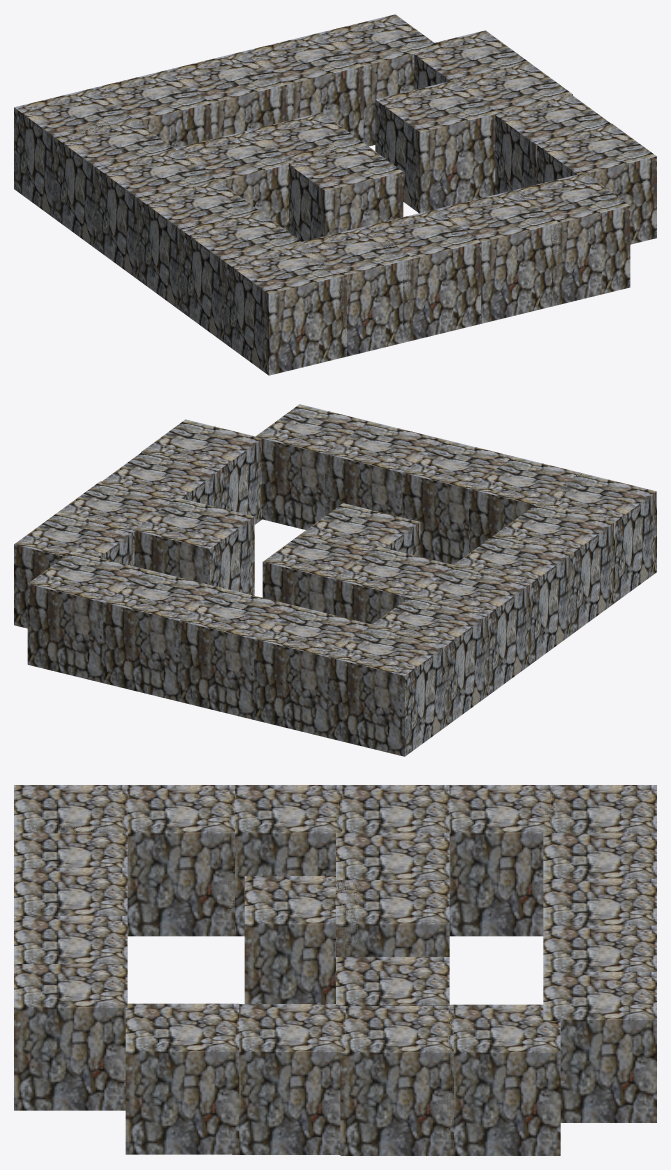
The model's file is scene_001_bak.glb.
The picture shows the model from 3 angles, top to bottom: view 1: azimuth 30°, elevation 25°; view 2: azimuth 150°, elevation 25°; view 3: azimuth 270°, elevation 25°; orthographic projection. The views are drawn at different scales.
Visible parts, largest first — view 1: Cube, Cube.021, Cube.008, Cube.007, Cube.009, Cube.014, Cube.006, Cube.010, Cube.019, Cube.002, Cube.005, Cube.004 (+10 smaller); view 2: Cube.016, Cube.018, Cube.020, Cube.019, Cube.017, Cube.021, Cube.009, Cube.007, Cube.008, Cube.002, Cube.005, Cube.015 (+10 smaller); view 3: Cube.010, Cube.012, Cube.009, Cube.013, Cube.002, Cube.011, Cube.020, Cube.015, Cube.014, Cube.004, Cube.003, Cube.021 (+10 smaller).
Part boxes in pixels (x1,y1,x2,y2): Cube: (224, 242, 346, 375); Cube.021: (375, 80, 498, 213); Cube.008: (436, 190, 559, 323); Cube.007: (358, 209, 481, 342); Cube.009: (515, 173, 630, 306); Cube.014: (281, 145, 403, 241); Cube.006: (294, 228, 413, 356); Cube.010: (534, 123, 656, 244); Cube.019: (242, 33, 363, 142); Cube.002: (181, 211, 303, 342); Cube.005: (96, 148, 216, 281); Cube.004: (138, 179, 258, 310); Cube.016: (327, 626, 449, 756); Cube.018: (178, 588, 299, 719); Cube.020: (27, 551, 148, 682); Cube.019: (103, 570, 222, 701); Cube.017: (254, 607, 371, 738); Cube.021: (133, 497, 254, 595); Cube.009: (255, 404, 375, 529); Cube.007: (402, 440, 521, 564); Cube.008: (325, 421, 446, 517); Cube.002: (493, 505, 614, 635); Cube.005: (411, 566, 530, 696); Cube.015: (368, 595, 489, 725); Cube.010: (125, 1003, 239, 1154); Cube.012: (340, 1004, 453, 1155); Cube.009: (14, 964, 127, 1110); Cube.013: (447, 1004, 560, 1155); Cube.002: (121, 785, 234, 936); Cube.011: (232, 1004, 345, 1154); Cube.020: (543, 972, 656, 1122); Cube.015: (441, 785, 555, 936); Cube.014: (244, 876, 358, 1003); Cube.004: (228, 785, 342, 936); Cube.003: (336, 876, 449, 956); Cube.021: (336, 957, 449, 1005).
Size of what is drawn, in the model's own units: 11.1 by 2.02 by 11.31.
1 material, 1 textured.
